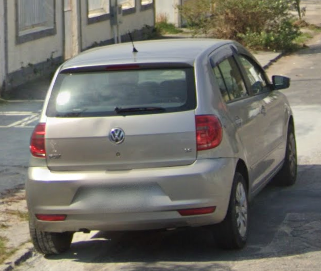car: (28, 37, 298, 250)
